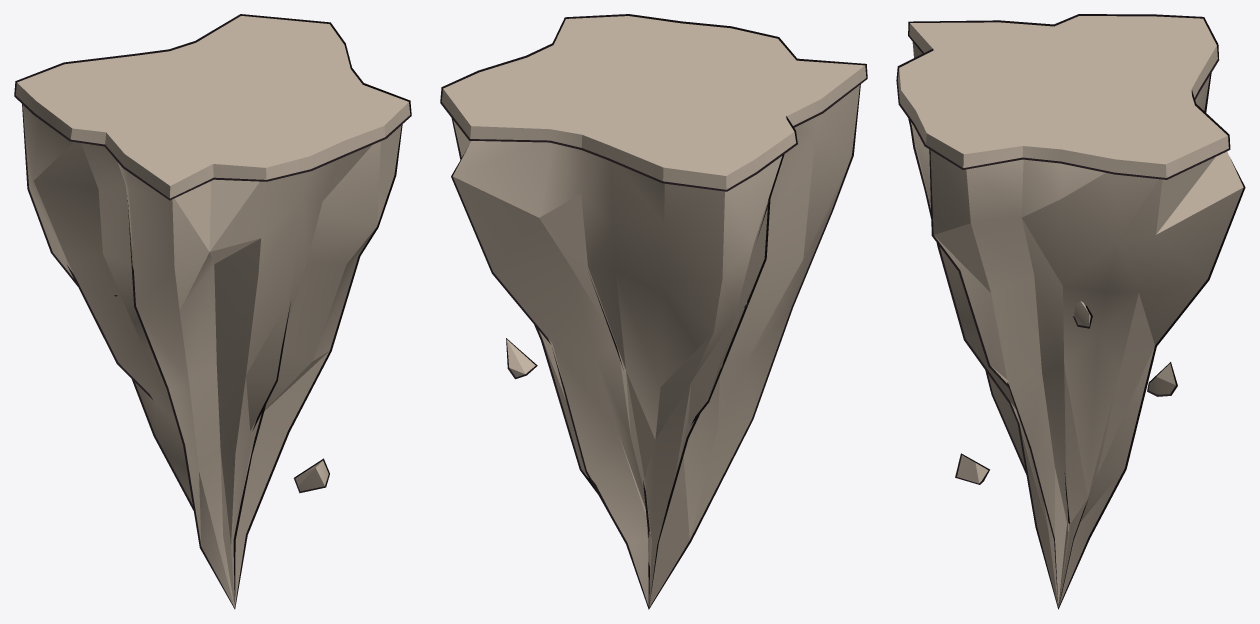
File: SM_Trail_Platform_02.fbx
3 renders of one model, left to right at view 1: azimuth 30°, elevation 25°; view 2: azimuth 150°, elevation 25°; view 3: azimuth 270°, elevation 25°, orthographic. The views are drawn at different scales.
Visible parts, largest first — view 1: SM_Trail_Platform_02; view 2: SM_Trail_Platform_02; view 3: SM_Trail_Platform_02.
Boxes of the visible parts, bbox=[...] form: SM_Trail_Platform_02: bbox=[14, 14, 411, 609]; SM_Trail_Platform_02: bbox=[440, 14, 867, 609]; SM_Trail_Platform_02: bbox=[896, 14, 1245, 609].
Size of the model in its own units: 30.71 by 49.3 by 29.97.
